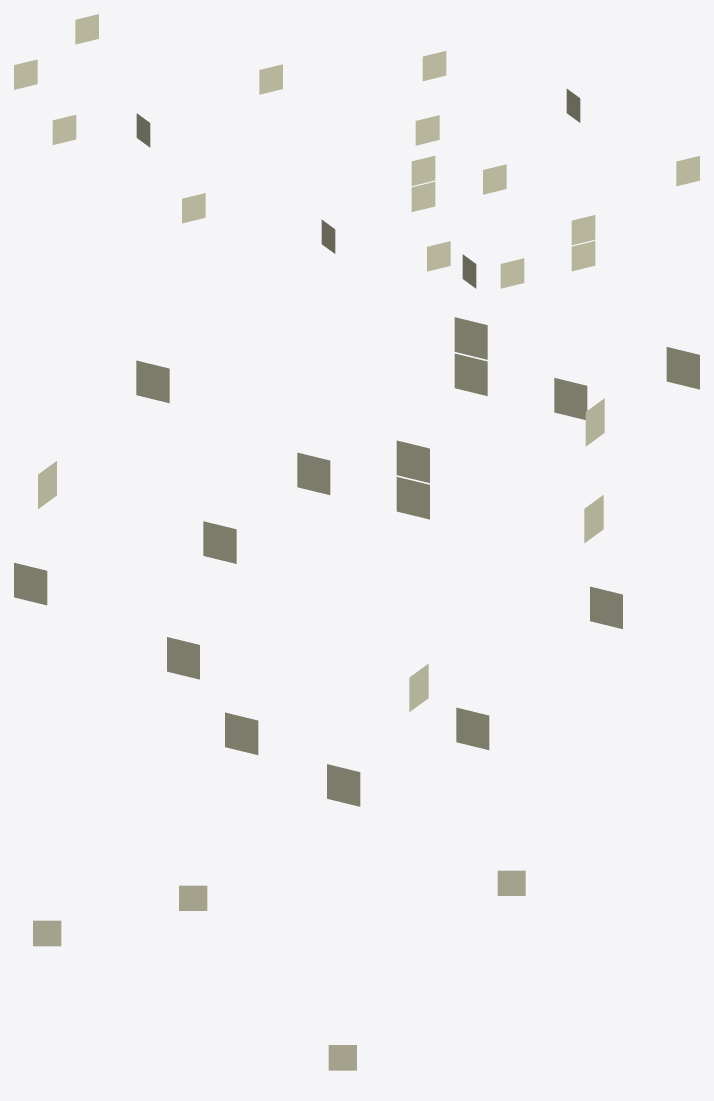
Rendered from object_20_lev1_lev2.glb.
The picture shows the model from 3 angles, top to bottom: view 1: azimuth 30°, elevation 25°; view 2: azimuth 150°, elevation 25°; view 3: azimuth 270°, elevation 25°; orthographic projection. The views are drawn at different scales.
Parts seen in each view (by area): view 1: object_20_lev1_lev2; view 2: object_20_lev1_lev2; view 3: object_20_lev1_lev2.
Boxes of the visible parts, box(x1,y1,x2,y2) form: object_20_lev1_lev2: box(14, 14, 699, 288); object_20_lev1_lev2: box(14, 317, 699, 806); object_20_lev1_lev2: box(33, 870, 525, 1070).
Size of the model in its own units: 47.05 by 6.37 by 60.44.
